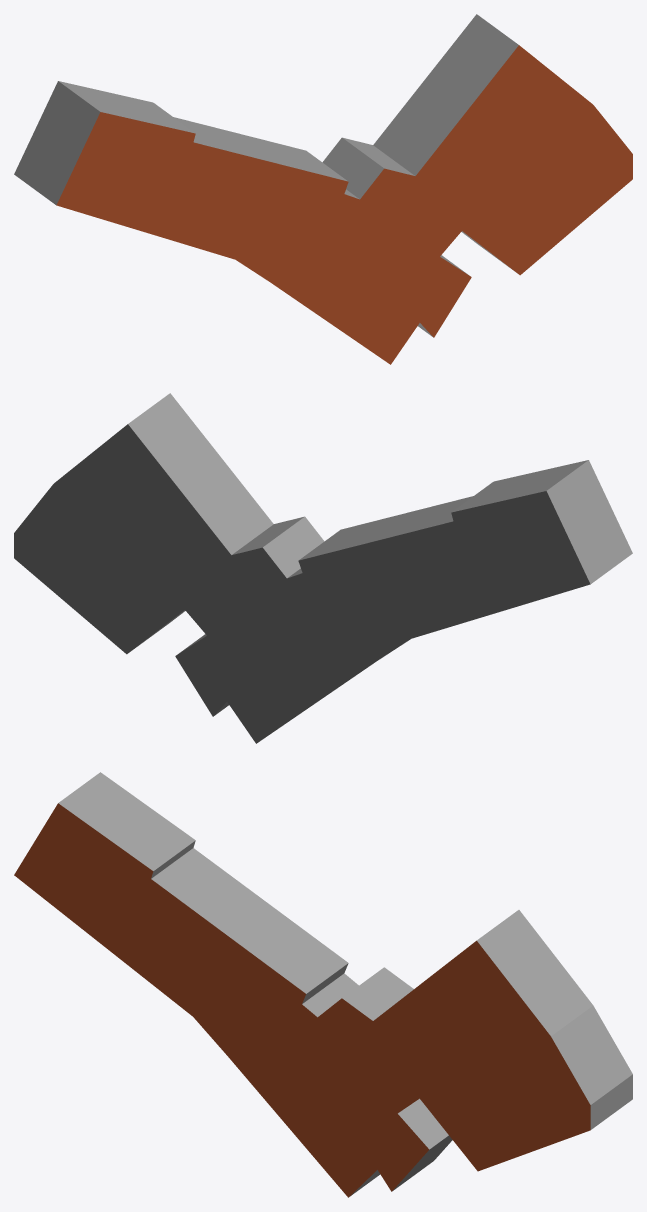
The model's file is construction_2884_assumed_A_Casa_h6m.obj.
The picture shows the model from 3 angles, top to bottom: view 1: azimuth 30°, elevation 25°; view 2: azimuth 150°, elevation 25°; view 3: azimuth 330°, elevation 25°; orthographic projection.
Visible parts, largest first — view 1: construction_2884_assumed_A_Casa; view 2: construction_2884_assumed_A_Casa; view 3: construction_2884_assumed_A_Casa.
Boxes of the visible parts, x1=… form: construction_2884_assumed_A_Casa: x1=14, y1=14, x2=632, y2=364; construction_2884_assumed_A_Casa: x1=14, y1=393, x2=632, y2=743; construction_2884_assumed_A_Casa: x1=14, y1=772, x2=632, y2=1197.
Size of the model in its own units: 47.13 by 25.29 by 6.
